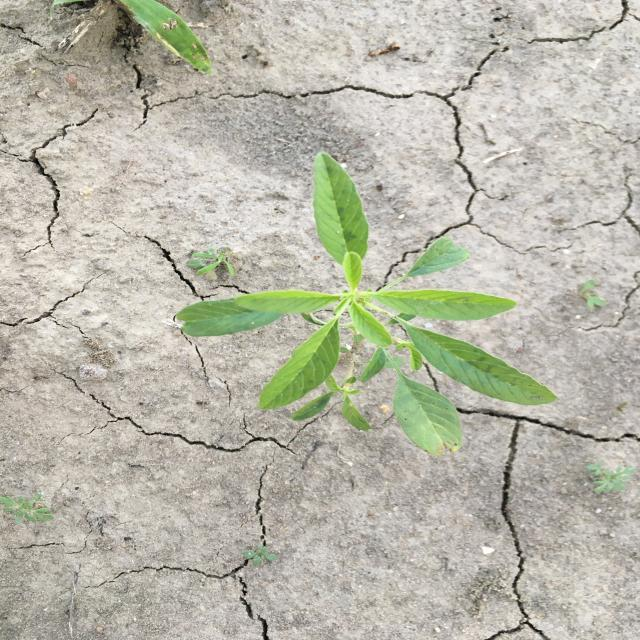Waterhemp: (171, 149, 562, 459)
